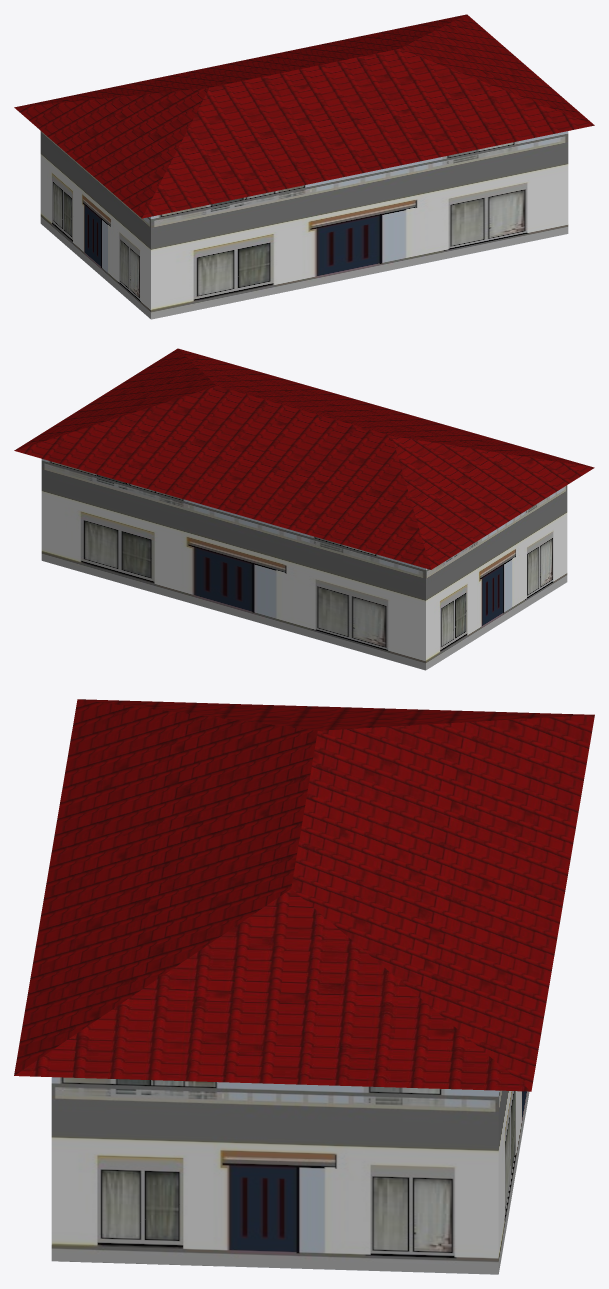
3 views of the same model, one above another, from view 1: azimuth 30°, elevation 25°; view 2: azimuth 150°, elevation 25°; view 3: azimuth 270°, elevation 25° (orthographic). The views are drawn at different scales.
Parts seen in each view (by area): view 1: CityEngineMaterial_17_m, CityEngineMaterial_7_m; view 2: CityEngineMaterial_17_m, CityEngineMaterial_7_m; view 3: CityEngineMaterial_17_m, CityEngineMaterial_7_m.
Part boxes in pixels (<box>): CityEngineMaterial_17_m: <box>14,14,594,218</box>; CityEngineMaterial_7_m: <box>40,131,568,319</box>; CityEngineMaterial_17_m: <box>14,348,594,569</box>; CityEngineMaterial_7_m: <box>41,459,567,670</box>; CityEngineMaterial_17_m: <box>14,699,594,1091</box>; CityEngineMaterial_7_m: <box>51,1077,529,1274</box>.
Size of the model in its own units: 24.64 by 8.34 by 15.42.
